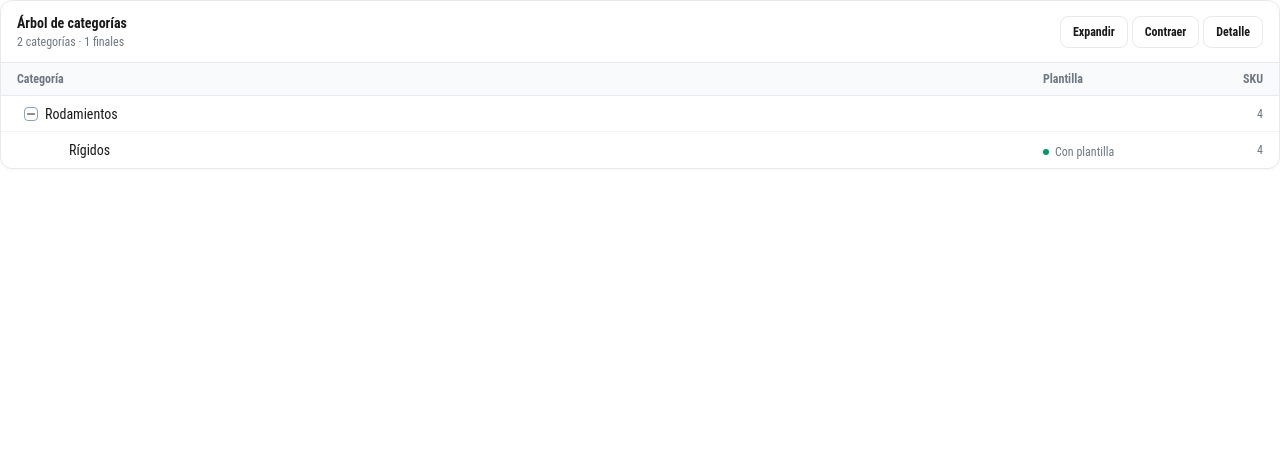
it: flujos del diseño conectados al catálogo › muestra el árbol AX con columnas fijas y abre y oculta el detalle sin perder la selección
Expected: the text "Categoría" is shown, [17,72,64,86]
Expected: the text "Plantilla" is shown, [1043,72,1083,86]
Click the button named "Contraer Rodamientos" at point(31, 114), box [17,100,45,128]
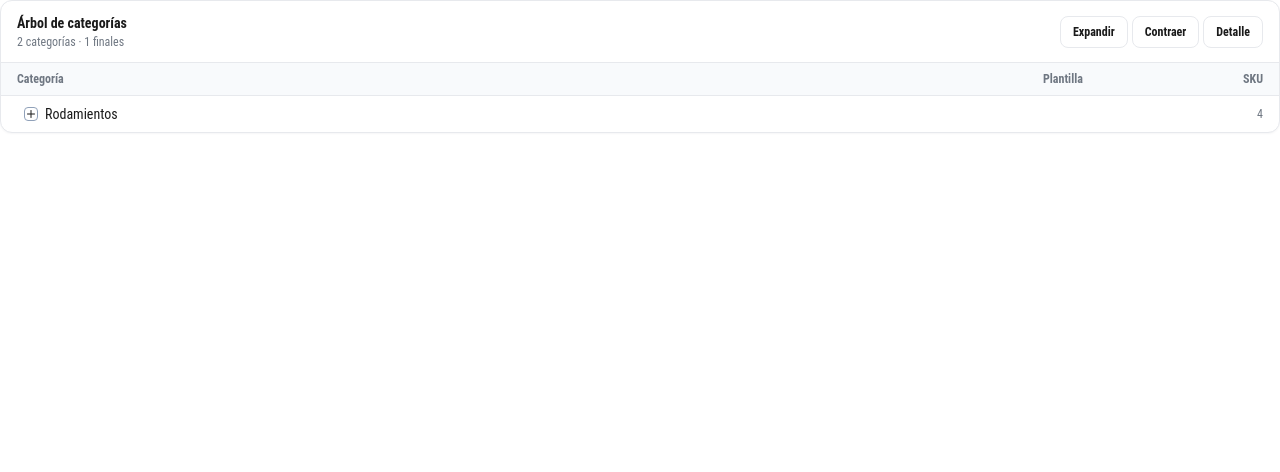
Click the button named "Expandir Rodamientos" at point(31, 114), box [17,100,45,128]
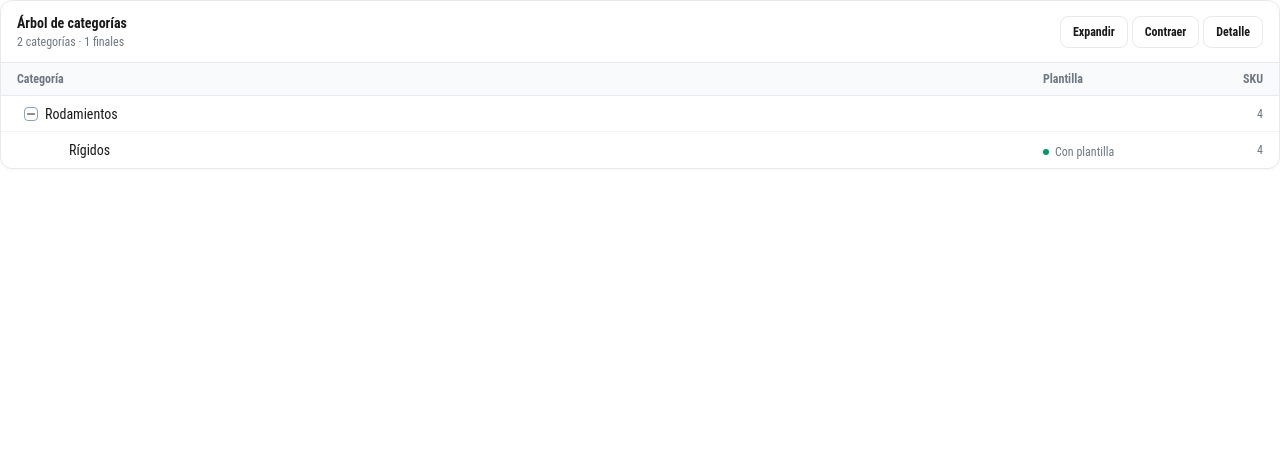
Click the button with aria-label "Seleccionar categoría Rígidos" at point(90, 150), box [69,134,1031,166]
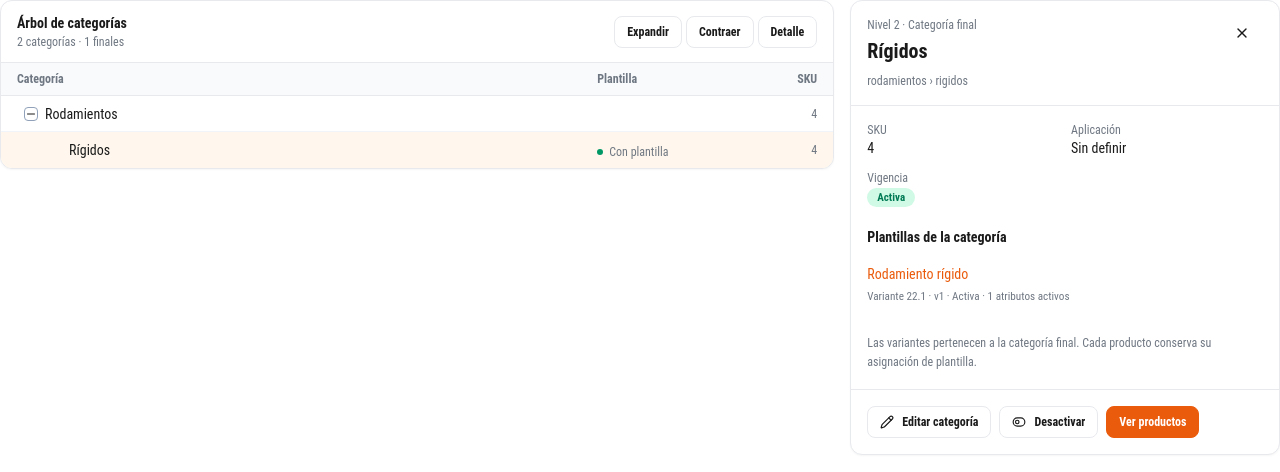
Click the button named "Ocultar detalle" at point(1242, 33), box [1221,17,1263,49]
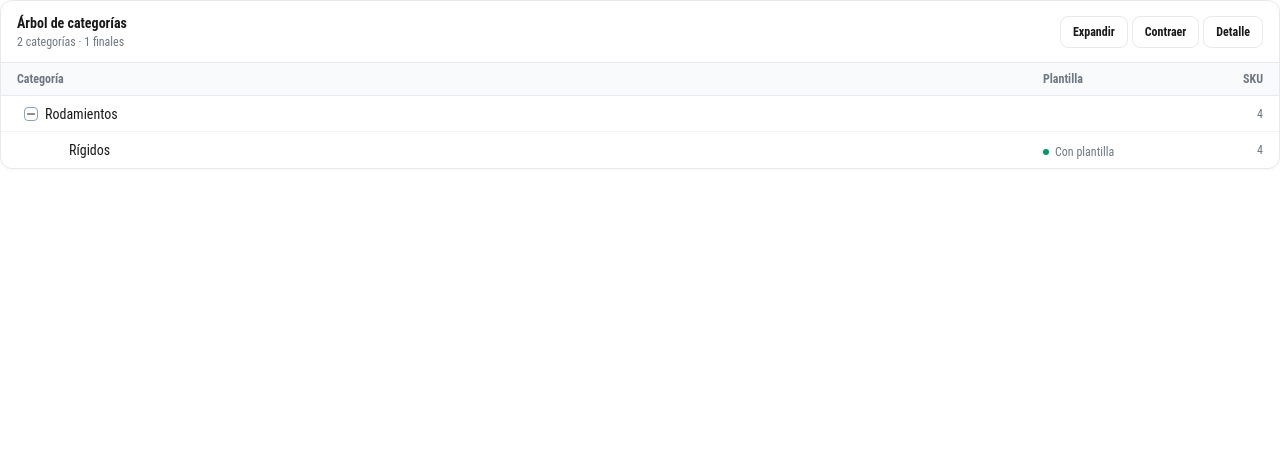
Click the button "Detalle" at point(1233, 32), box [1203,16,1263,48]
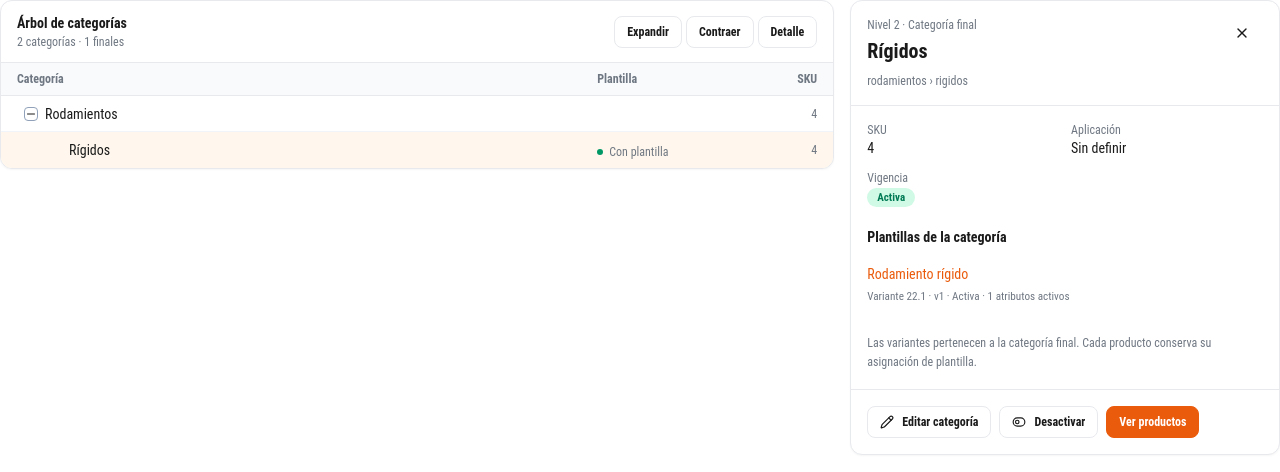
Now the link "Rodamiento rígido" is shown, box [867,266,968,282]
